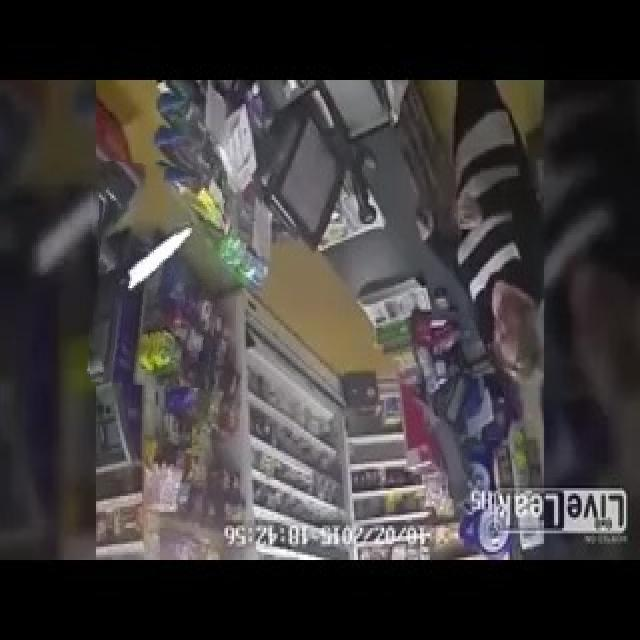Shoplifting: (90, 163, 222, 386)
